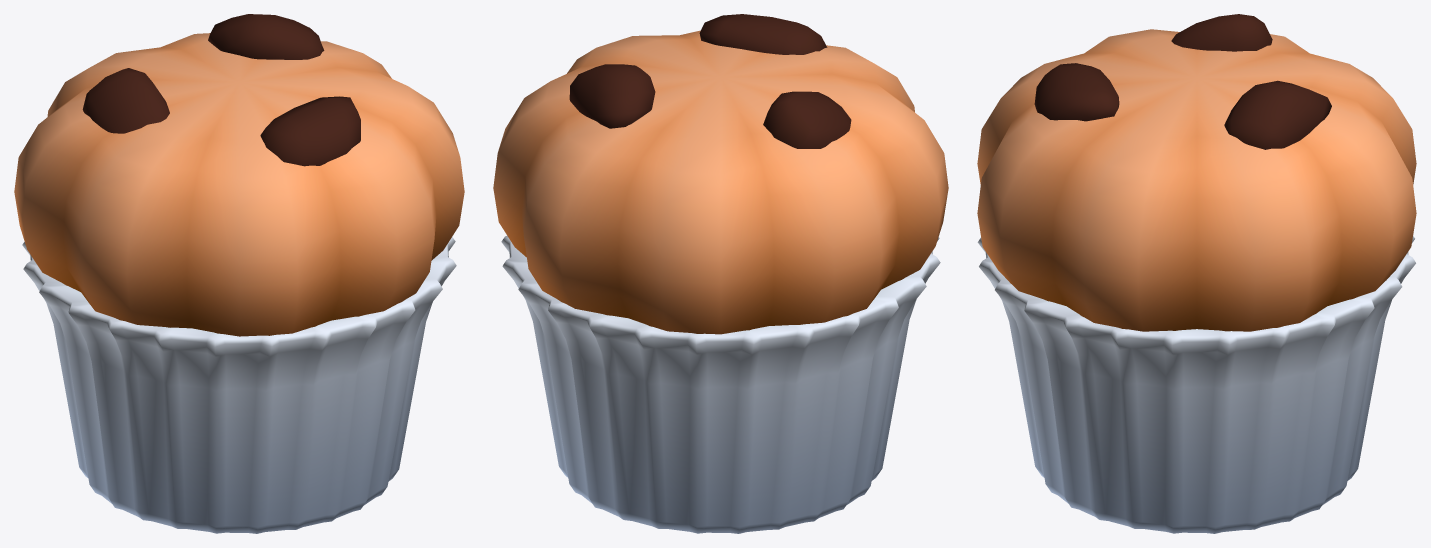
The model's file is Cupcake_05.glb.
3 renders of one model, left to right at view 1: azimuth 30°, elevation 25°; view 2: azimuth 150°, elevation 25°; view 3: azimuth 270°, elevation 25°, orthographic.
Parts seen in each view (by area): view 1: Cupcake_05; view 2: Cupcake_05; view 3: Cupcake_05.
Boxes of the visible parts, x1,y1,x2,y2 form: Cupcake_05: (14,14,464,533); Cupcake_05: (493,14,948,533); Cupcake_05: (977,14,1416,533).
Bounding box in the file's own units: 4.59 × 4.8 × 4.59.
Materials: 1 (1 with a texture image).
